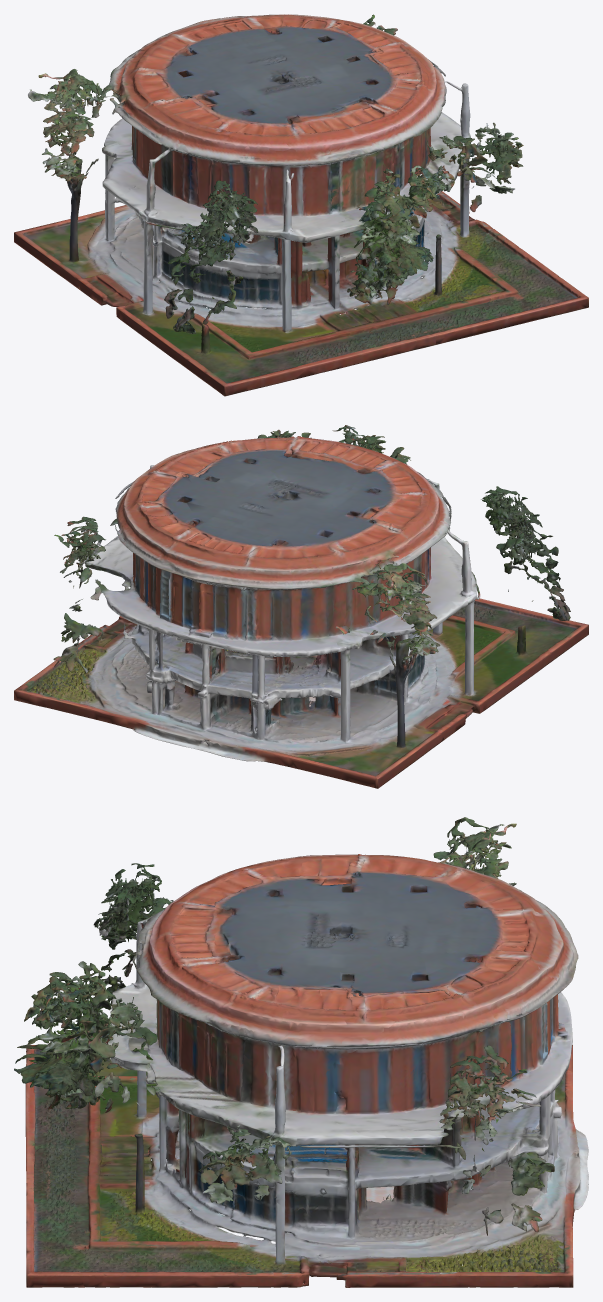
The model's file is CUET_TSC_Building.glb.
The picture shows the model from 3 angles, top to bottom: view 1: azimuth 30°, elevation 25°; view 2: azimuth 150°, elevation 25°; view 3: azimuth 270°, elevation 25°; orthographic projection. The views are drawn at different scales.
Bounding box in the file's own units: 1.99 × 0.9174 × 1.91.
1 material, 1 textured.
